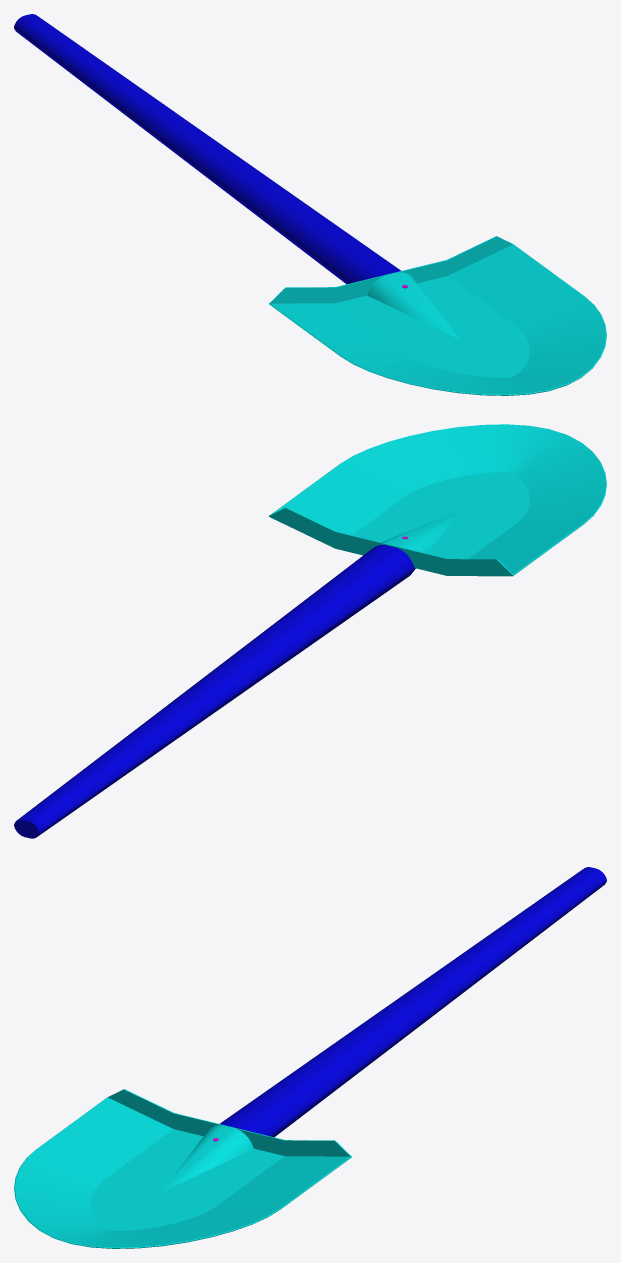
File: shovel.fbx
3 renders of one model, top to bottom at view 1: azimuth 30°, elevation 25°; view 2: azimuth 150°, elevation 25°; view 3: azimuth 330°, elevation 25°, orthographic.
Visible parts, largest first — view 1: Shovel; view 2: Shovel; view 3: Shovel.
Boxes of the visible parts, bbox=[...] form: Shovel: bbox=[14, 14, 606, 395]; Shovel: bbox=[14, 424, 606, 838]; Shovel: bbox=[14, 867, 606, 1248].
Bounding box in the file's own units: 200 × 34.77 × 741.
